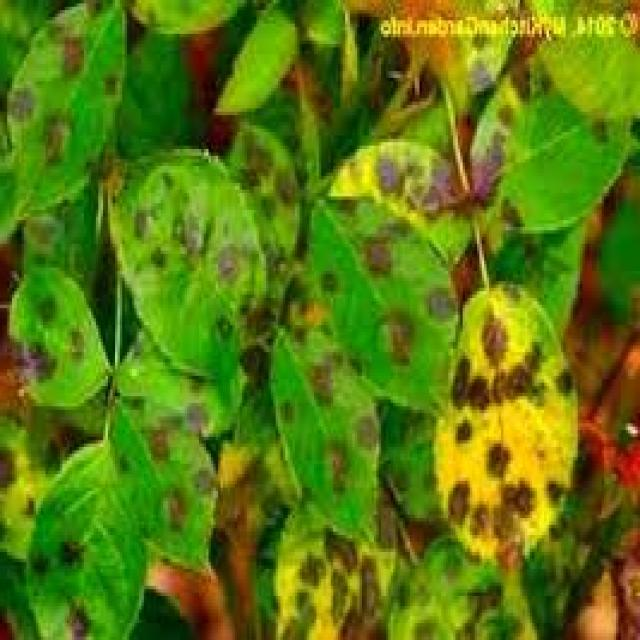black-spot: (402, 318, 584, 588), (97, 155, 234, 464), (268, 516, 362, 640)
